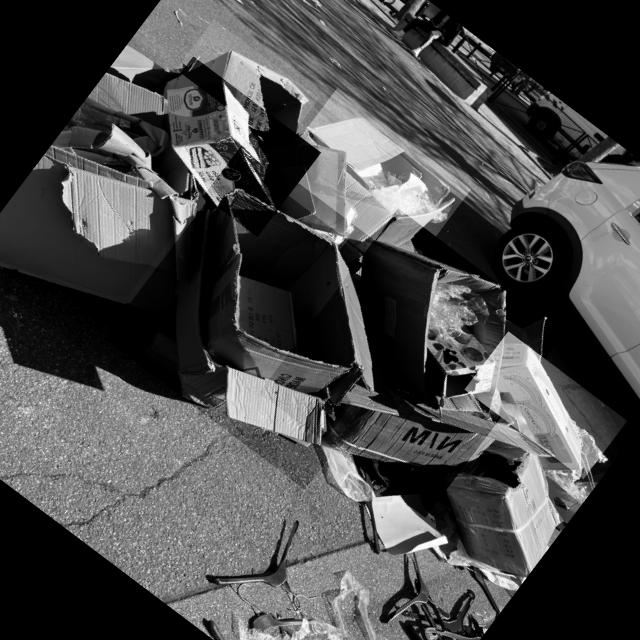Other Carton: (103, 158, 440, 490), (259, 208, 564, 518), (0, 37, 253, 353), (129, 56, 321, 238), (277, 89, 471, 268), (419, 418, 592, 594), (158, 19, 318, 172), (464, 332, 627, 479)
